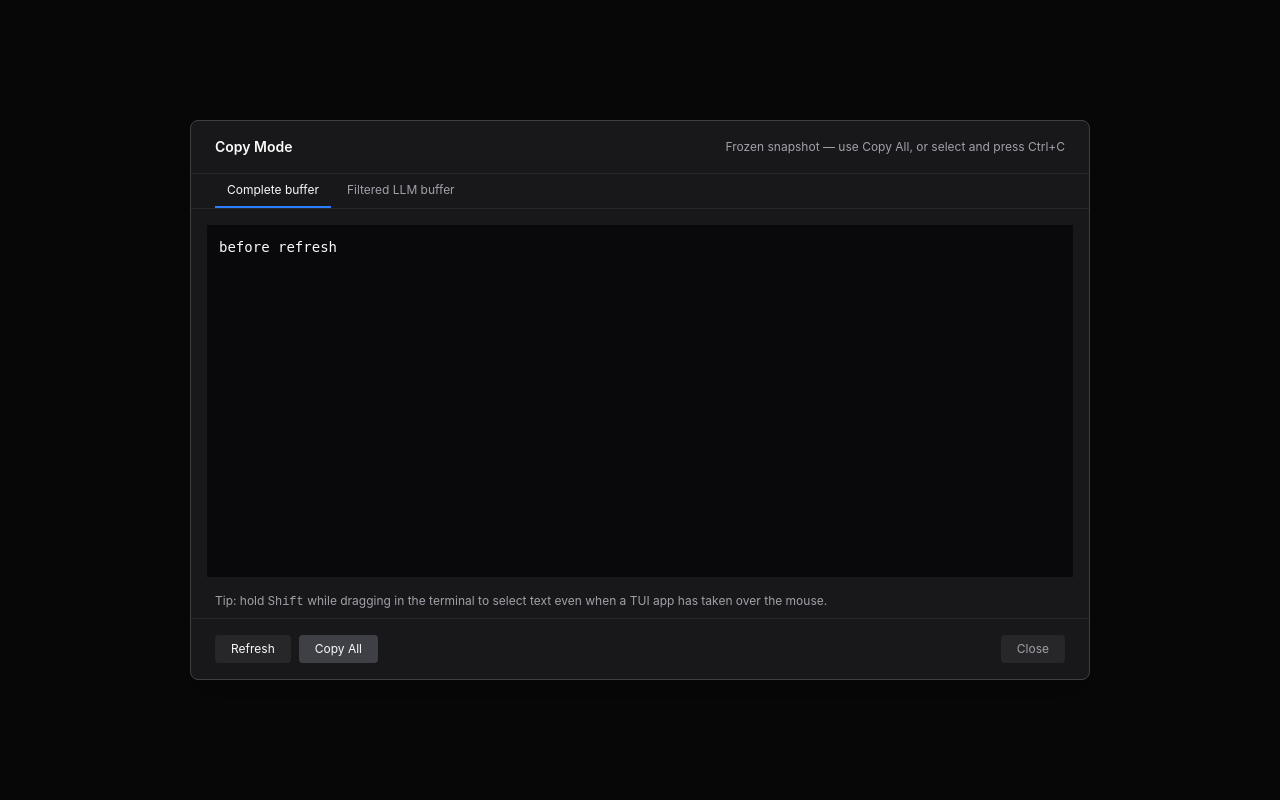
CopyModeDialog › replaces the snapshot in place when Refresh is clicked
Expected: the text box named "Terminal output (copy mode)" holds "before refresh", [207, 225, 1073, 577]
Click the button "Refresh": (253, 649) [215, 635, 291, 663]
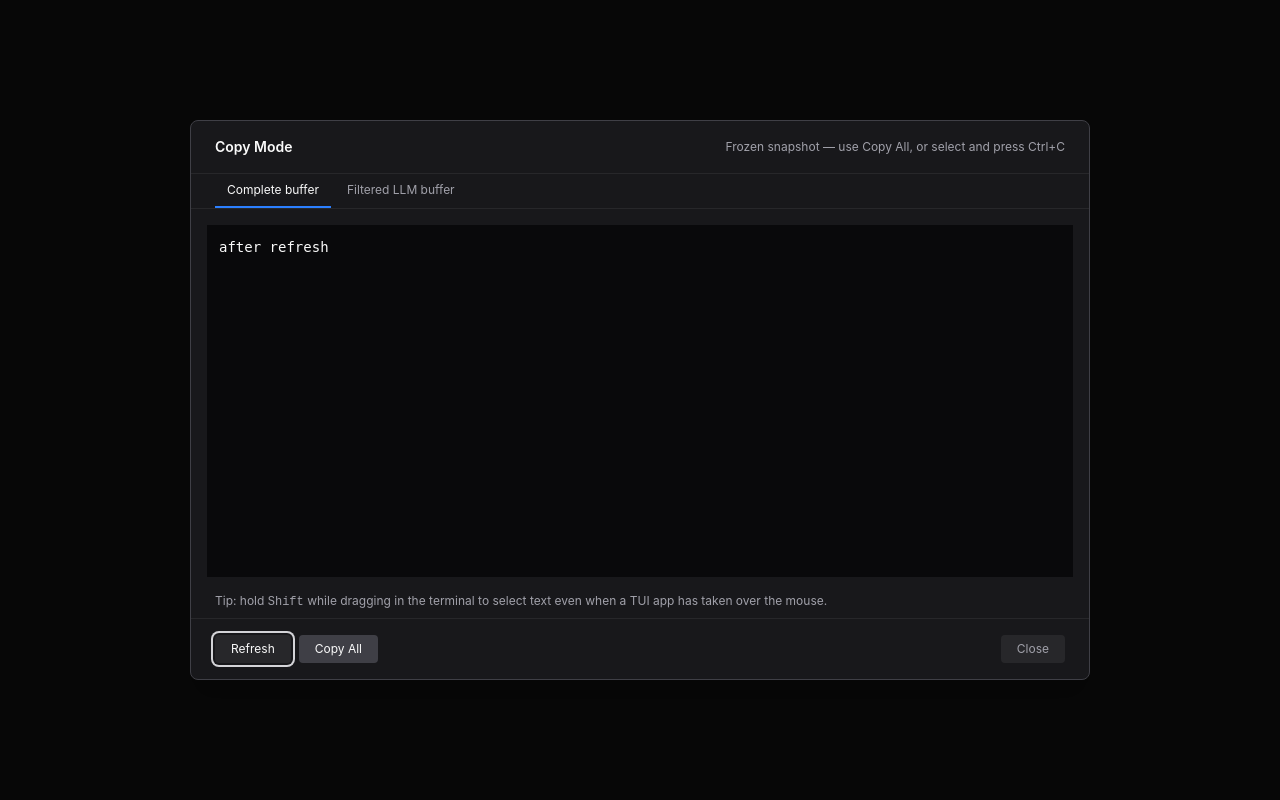
Expected: the text box named "Terminal output (copy mode)" holds "after refresh", [207, 225, 1073, 577]
